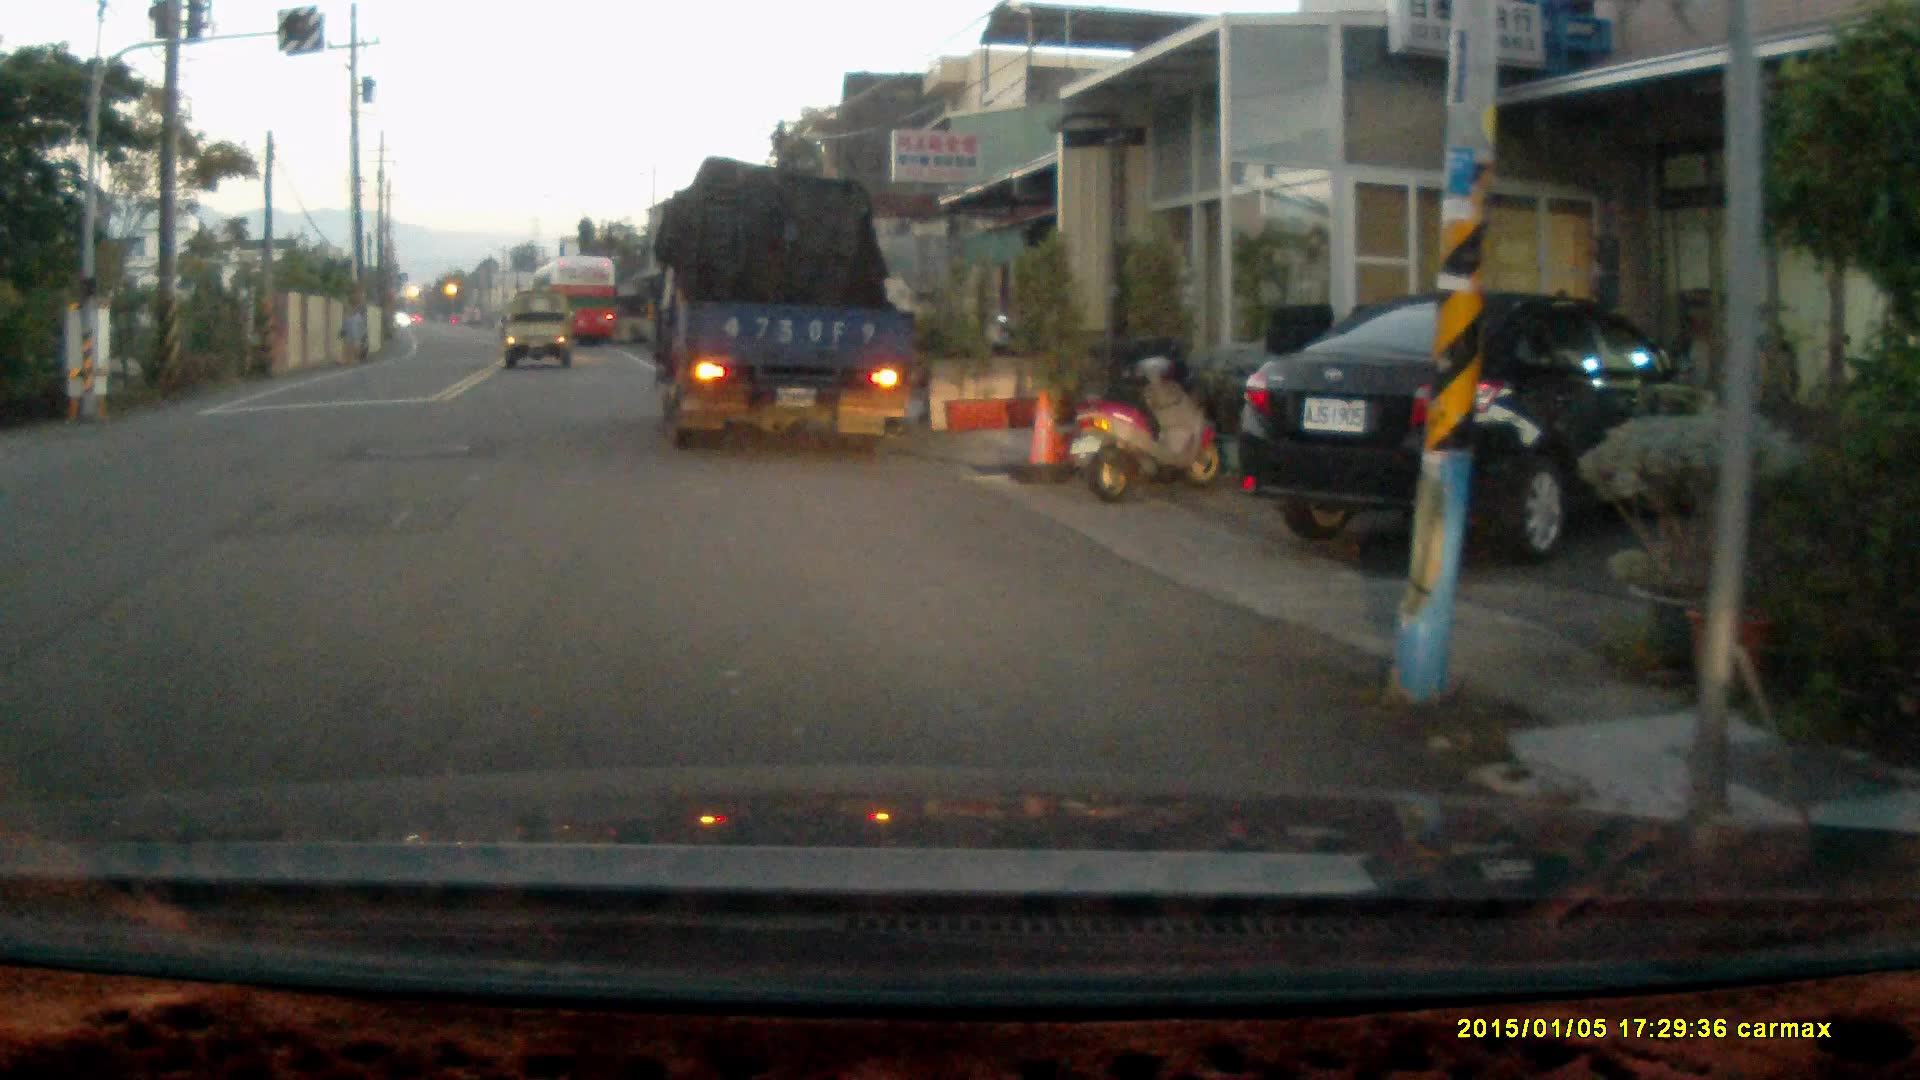vehicle: (1226, 284, 1738, 564), (653, 164, 934, 443), (531, 255, 626, 351), (502, 295, 576, 371)
